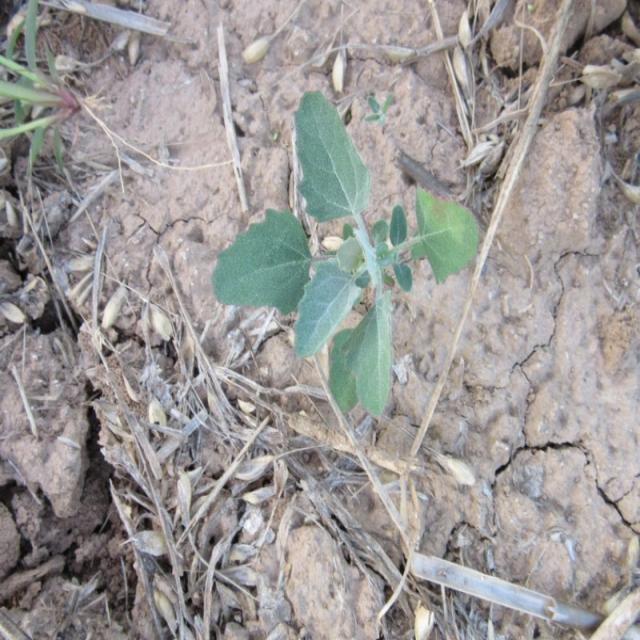ca: (216, 91, 481, 421)
